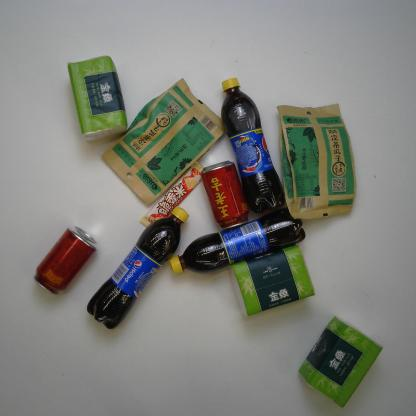Chocolate: (140, 160, 205, 229)
Dried Food: (100, 77, 225, 207), (275, 102, 359, 221)
Drink: (86, 205, 190, 331), (168, 204, 307, 276), (220, 76, 287, 214), (33, 225, 98, 295), (200, 159, 250, 231)
Tissue: (297, 315, 384, 410), (227, 244, 316, 317), (66, 54, 129, 143)
